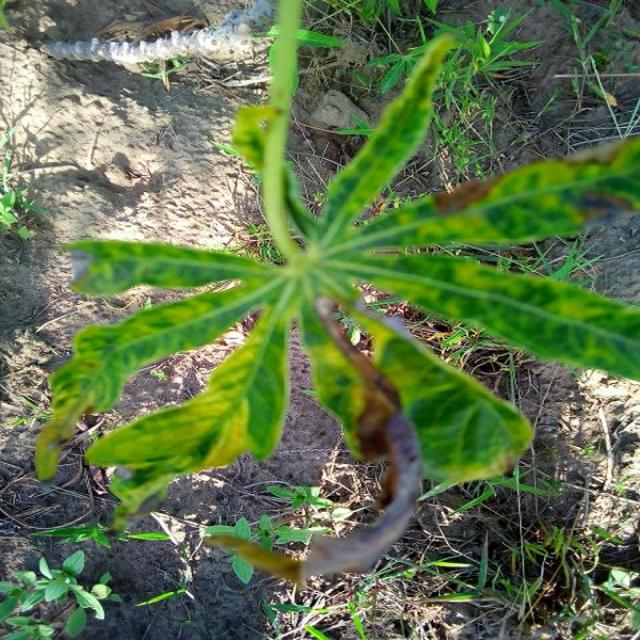cassava leaf: (35, 15, 640, 584)
